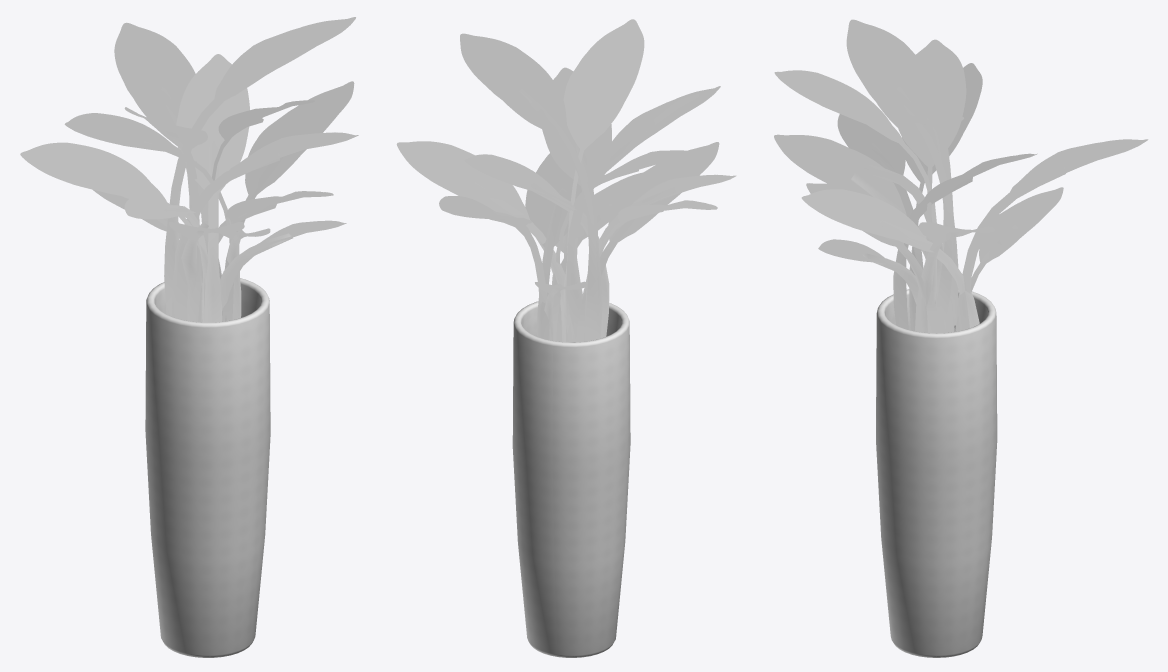
The model's file is SM_Plant_01.fbx.
3 views of the same model, side by side, from view 1: azimuth 30°, elevation 25°; view 2: azimuth 150°, elevation 25°; view 3: azimuth 270°, elevation 25° (orthographic). The views are drawn at different scales.
Parts seen in each view (by area): view 1: SM_Plant_01; view 2: SM_Plant_01; view 3: SM_Plant_01.
Part boxes in pixels (x1,y1,x2,y2): SM_Plant_01: (20, 17, 358, 657); SM_Plant_01: (396, 19, 736, 657); SM_Plant_01: (774, 19, 1148, 657).
Bounding box in the file's own units: 101 × 170 × 101.
